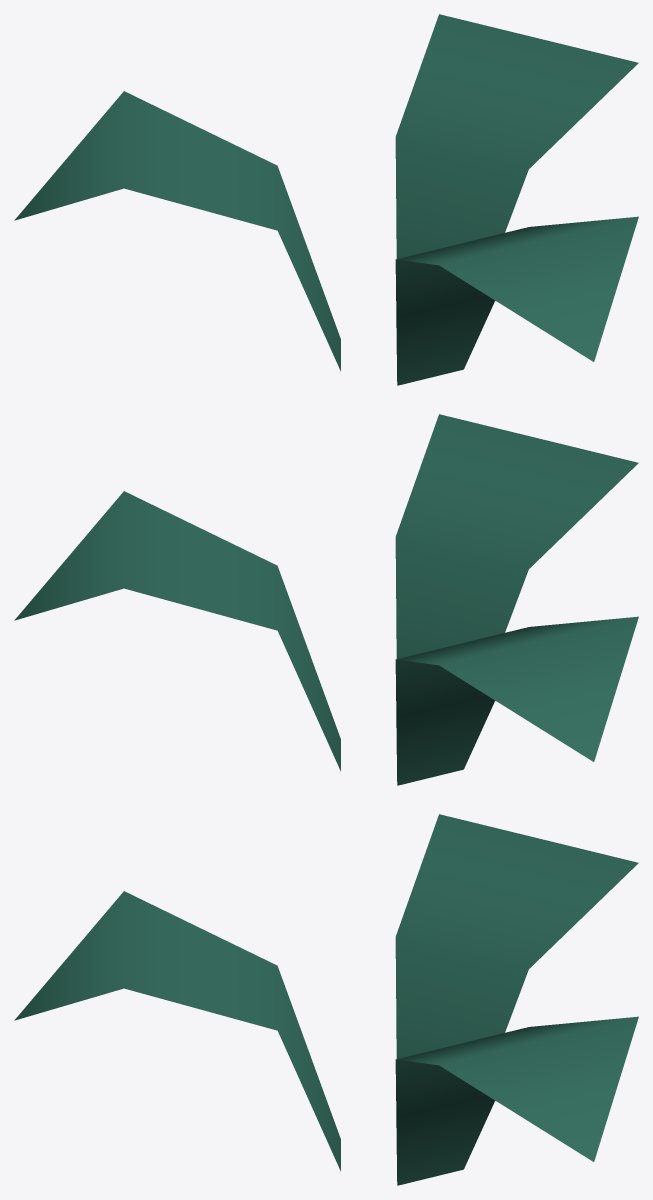
The model's file is grass-2.glb.
3 renders of one model, top to bottom at view 1: azimuth 30°, elevation 25°; view 2: azimuth 150°, elevation 25°; view 3: azimuth 270°, elevation 25°, orthographic.
Parts seen in each view (by area): view 1: plant_large; view 2: plant_large; view 3: plant_large.
Part boxes in pixels (x1=…): plant_large: x1=14, y1=14, x2=638, y2=385; plant_large: x1=14, y1=414, x2=638, y2=785; plant_large: x1=14, y1=814, x2=638, y2=1185.
Bounding box in the file's own units: 0.7471 × 0.266 × 0.6971.
